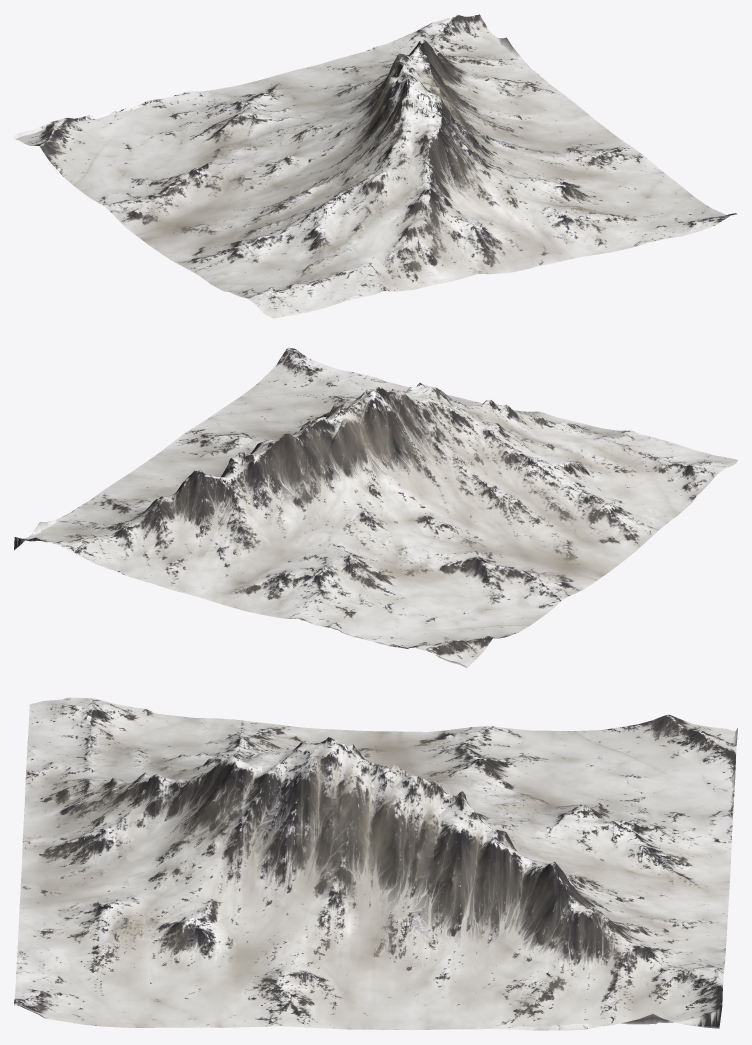
File: snow_mountain.glb
3 views of the same model, one above another, from view 1: azimuth 30°, elevation 25°; view 2: azimuth 150°, elevation 25°; view 3: azimuth 270°, elevation 25° (orthographic). The views are drawn at different scales.
Parts seen in each view (by area): view 1: Plane001; view 2: Plane001; view 3: Plane001.
Boxes of the visible parts, x1,y1,x2,y2 form: Plane001: [14, 14, 737, 318]; Plane001: [14, 347, 737, 668]; Plane001: [14, 697, 737, 1030].
Size of the model in its own units: 143 by 33.42 by 143.
Materials: 1 (1 with a texture image).
